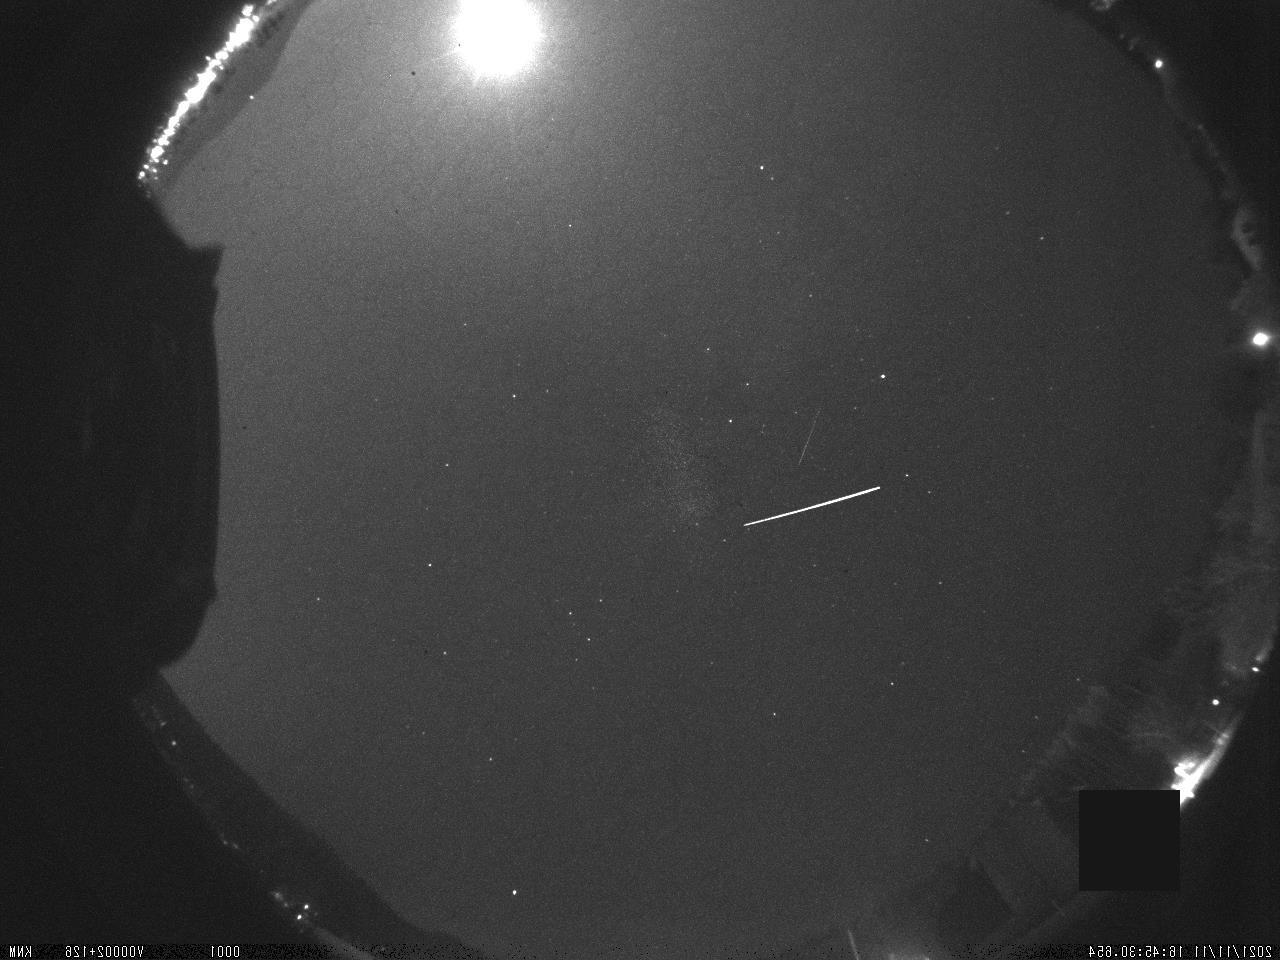meteor: (758, 393, 846, 480)
